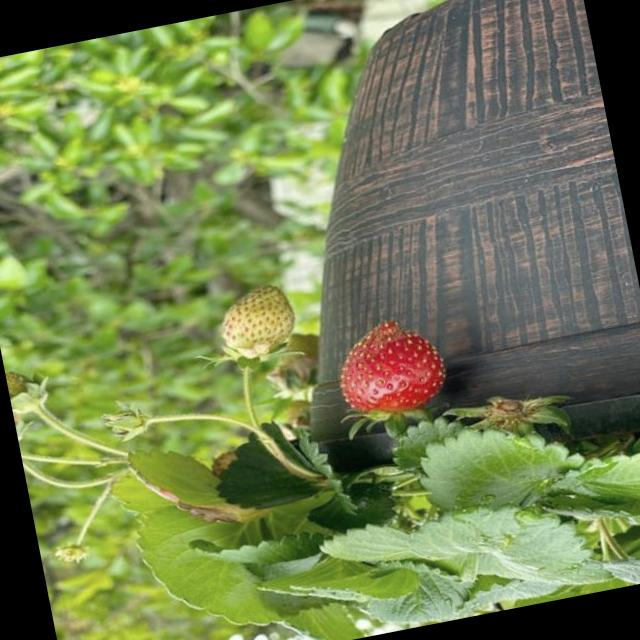strawberry: (328, 310, 448, 422), (212, 280, 301, 362)
